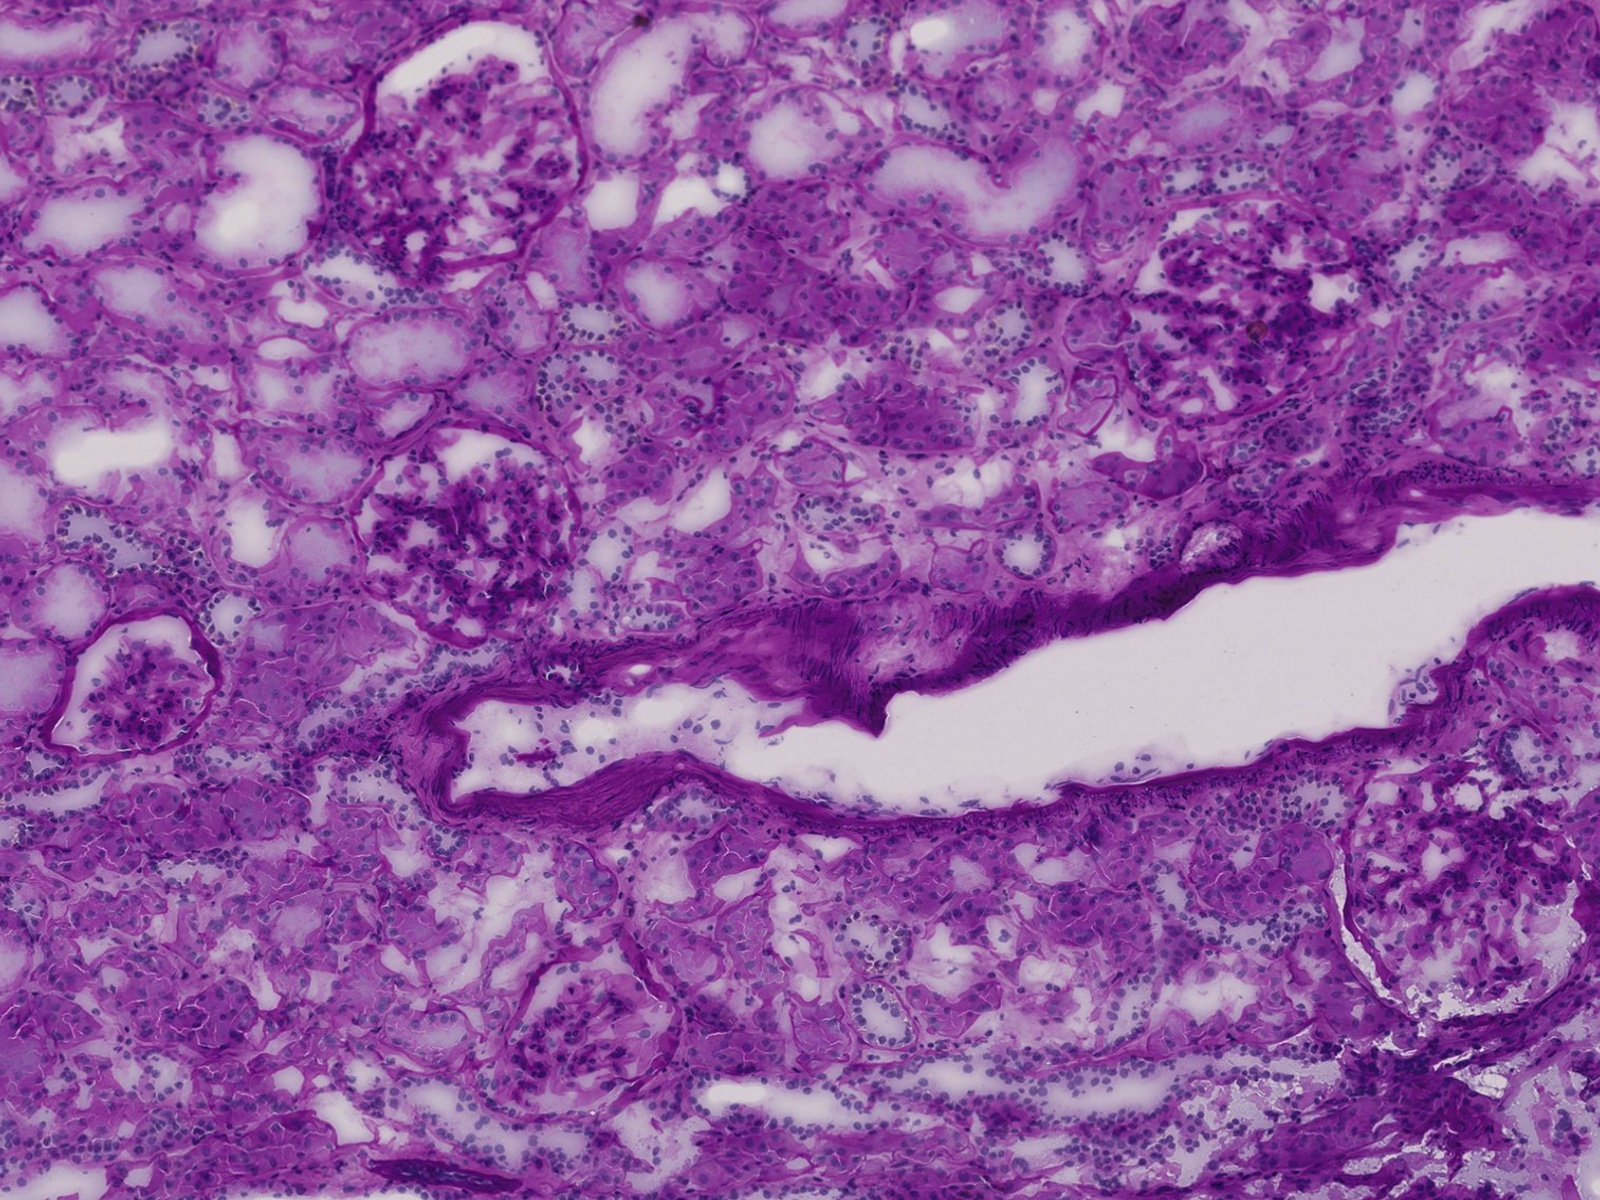Glomeruli: (1335, 732, 1592, 1037), (324, 16, 590, 308), (1124, 194, 1377, 437), (354, 413, 583, 661), (486, 932, 680, 1138), (42, 611, 224, 764)
